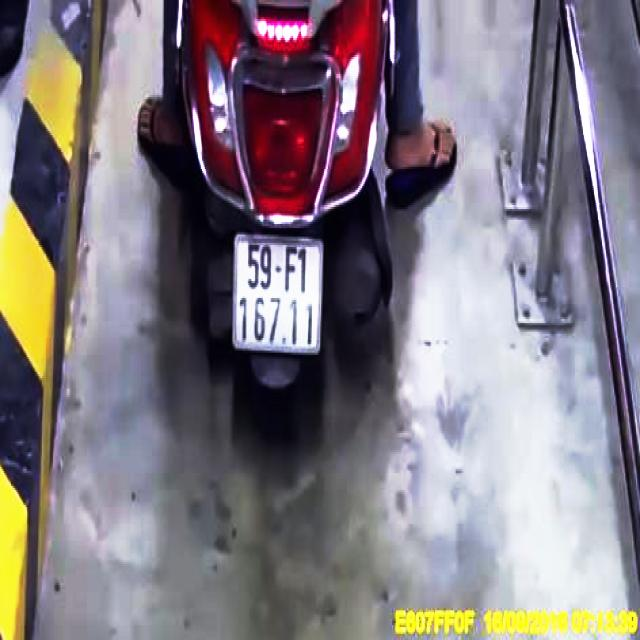license_plate: (236, 236, 322, 353)
